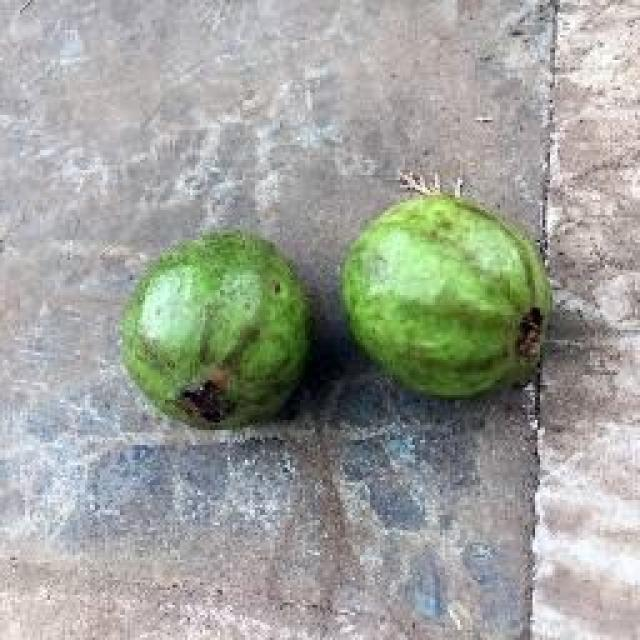Good_Guava: (338, 195, 552, 402)
